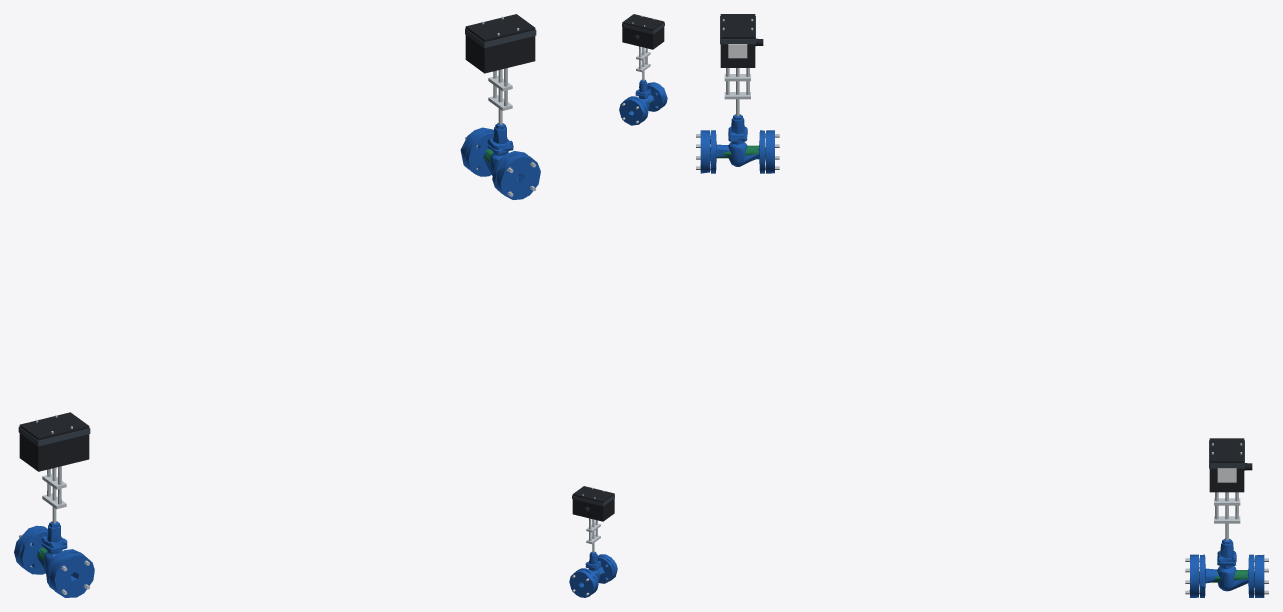
File: modulation.glb
3 views of the same model, side by side, from view 1: azimuth 30°, elevation 25°; view 2: azimuth 150°, elevation 25°; view 3: azimuth 270°, elevation 25° (orthographic). The views are drawn at different scales.
Parts seen in each view (by area): view 1: mod_eco_drive, mod_direct_drive, mod_eco, mod_direct; view 2: mod_direct_drive, mod_eco_drive, mod_eco, mod_direct; view 3: mod_eco_drive, mod_direct_drive, mod_eco, mod_direct.
Boxes of the visible parts, bbox=[...] form: mod_eco_drive: bbox=[18, 412, 90, 523]; mod_direct_drive: bbox=[465, 14, 536, 125]; mod_eco: bbox=[14, 521, 94, 597]; mod_direct: bbox=[460, 123, 540, 199]; mod_direct_drive: bbox=[622, 14, 664, 80]; mod_eco_drive: bbox=[572, 486, 614, 552]; mod_eco: bbox=[569, 551, 617, 597]; mod_direct: bbox=[619, 79, 667, 125]; mod_eco_drive: bbox=[1209, 438, 1252, 540]; mod_direct_drive: bbox=[720, 14, 763, 116]; mod_eco: bbox=[1185, 538, 1268, 597]; mod_direct: bbox=[696, 114, 779, 173].
Bounding box in the file's own units: 0.806 × 2.33 × 1.85.
